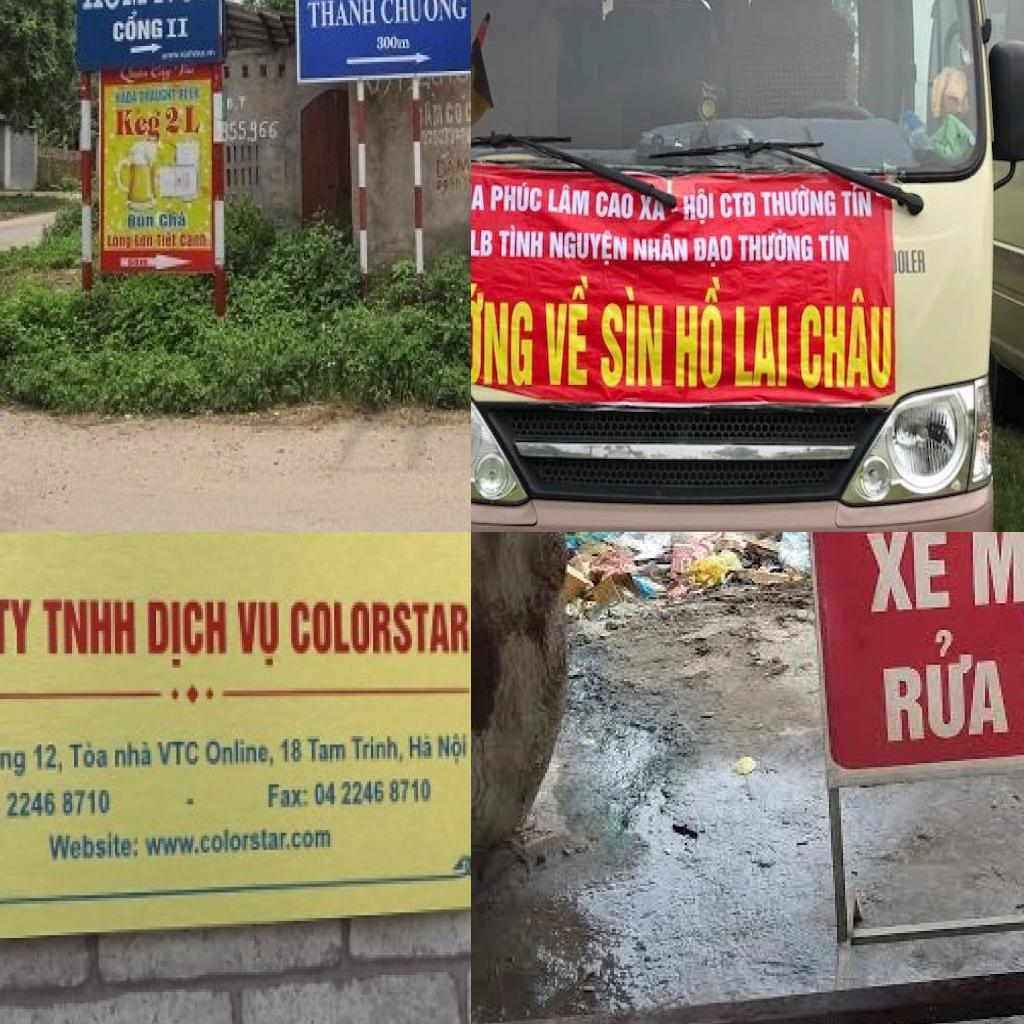text: (880, 622, 1016, 746), (289, 596, 471, 662), (861, 532, 954, 617), (471, 279, 536, 393), (600, 284, 666, 391), (39, 597, 140, 659), (144, 600, 230, 670), (541, 272, 592, 390), (673, 274, 724, 391), (735, 302, 790, 390), (0, 784, 115, 824), (314, 776, 434, 813), (969, 532, 1024, 611), (43, 827, 142, 867), (234, 600, 285, 670), (548, 228, 629, 268), (758, 183, 838, 220), (736, 227, 815, 264), (203, 736, 277, 773), (380, 0, 471, 30), (305, 0, 380, 34), (0, 593, 35, 659), (348, 730, 408, 768), (113, 106, 164, 148), (632, 231, 690, 267), (489, 179, 544, 216), (109, 10, 164, 46), (497, 223, 545, 261), (546, 182, 593, 220), (260, 779, 312, 813), (304, 730, 350, 768), (691, 232, 734, 272), (154, 736, 203, 770), (226, 116, 284, 144), (434, 727, 471, 770), (66, 739, 111, 773), (113, 739, 156, 773), (31, 739, 66, 779), (164, 105, 205, 139), (682, 186, 716, 227), (594, 190, 636, 222), (0, 738, 29, 784), (719, 189, 759, 221), (840, 183, 874, 220), (817, 229, 852, 264), (404, 730, 436, 764), (435, 150, 471, 180), (277, 733, 305, 770), (638, 190, 668, 224), (896, 247, 928, 277), (445, 94, 471, 128), (164, 14, 193, 42), (471, 227, 494, 261), (374, 35, 413, 55), (106, 230, 133, 256), (157, 208, 188, 230), (178, 230, 210, 251), (471, 175, 487, 214), (126, 212, 156, 230), (226, 94, 250, 114), (134, 230, 156, 251), (178, 85, 203, 103), (157, 230, 178, 251), (183, 796, 197, 810)
